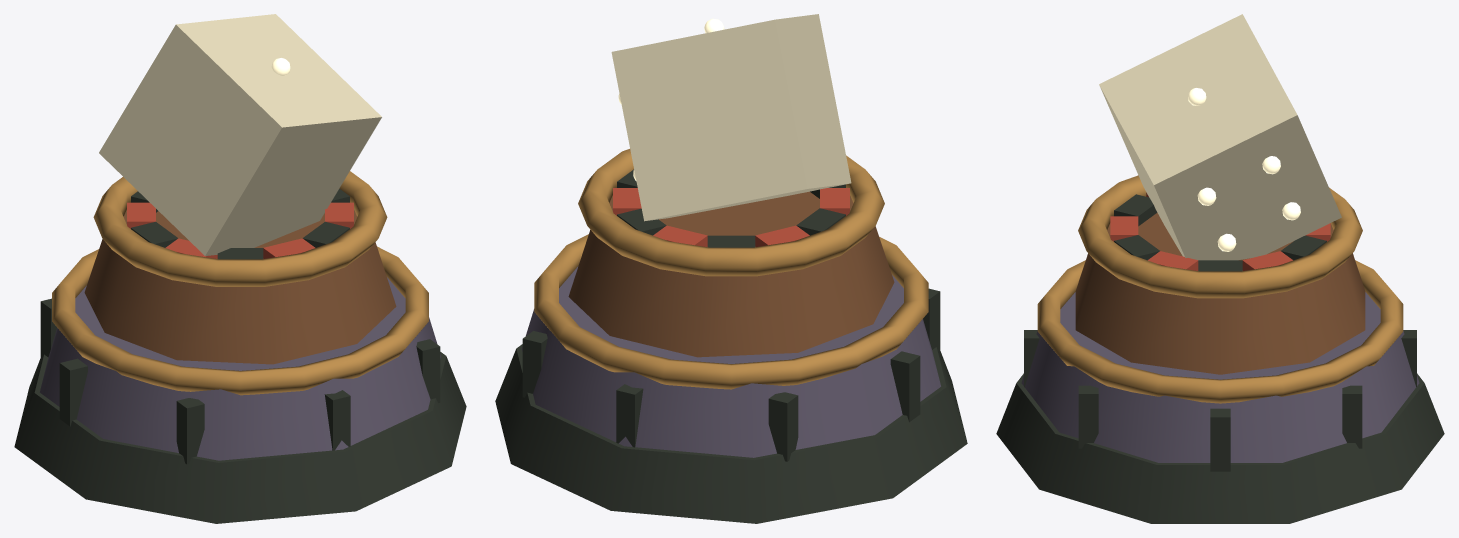
File: tower_gamble.glb
The picture shows the model from 3 angles, left to right: view 1: azimuth 30°, elevation 25°; view 2: azimuth 150°, elevation 25°; view 3: azimuth 270°, elevation 25°; orthographic projection. The views are drawn at different scales.
Parts seen in each view (by area): view 1: die_25, foot_0, stone_1, table_11, rim_2, roulette_rim_12, mortar_6, mortar_7, mortar_5, mortar_4, mortar_8, pocket_18 (+5 smaller); view 2: die_25, foot_0, table_11, stone_1, rim_2, roulette_rim_12, mortar_8, mortar_7, mortar_9, mortar_10, mortar_6, pocket_22 (+6 smaller); view 3: die_25, foot_0, stone_1, table_11, rim_2, roulette_rim_12, mortar_3, mortar_4, mortar_10, pocket_20, pocket_19, pocket_18 (+6 smaller).
Part boxes in pixels (x1,y1,x2,y2): die_25: (99, 14, 381, 255); foot_0: (14, 352, 466, 523); stone_1: (40, 277, 440, 460); table_11: (84, 210, 396, 364); rim_2: (52, 246, 428, 395); roulette_rim_12: (93, 171, 387, 286); mortar_6: (176, 398, 204, 464); mortar_7: (59, 358, 87, 426); mortar_5: (324, 390, 350, 450); mortar_4: (416, 339, 440, 403); mortar_8: (40, 298, 57, 358); pocket_18: (302, 221, 349, 247); die_25: (611, 14, 851, 221); foot_0: (495, 344, 967, 523); table_11: (568, 191, 894, 357); stone_1: (522, 266, 940, 457); rim_2: (534, 234, 928, 389); roulette_rim_12: (578, 149, 884, 276); mortar_8: (768, 392, 798, 461); mortar_7: (890, 351, 920, 422); mortar_9: (616, 384, 643, 447); mortar_10: (522, 331, 547, 397); mortar_6: (923, 288, 940, 350); pocket_22: (796, 208, 845, 235); die_25: (1099, 14, 1341, 260); foot_0: (996, 373, 1444, 523); stone_1: (1021, 292, 1419, 462); table_11: (1075, 212, 1365, 374); rim_2: (1037, 260, 1403, 403); roulette_rim_12: (1078, 175, 1362, 298); mortar_3: (1210, 408, 1230, 471); mortar_4: (1078, 385, 1098, 448); mortar_10: (1342, 385, 1362, 448); pocket_20: (1114, 194, 1157, 226); pocket_19: (1110, 216, 1138, 241); pocket_18: (1114, 235, 1159, 260).
Bounding box in the file's own units: 0.5326 × 0.5439 × 0.56.
